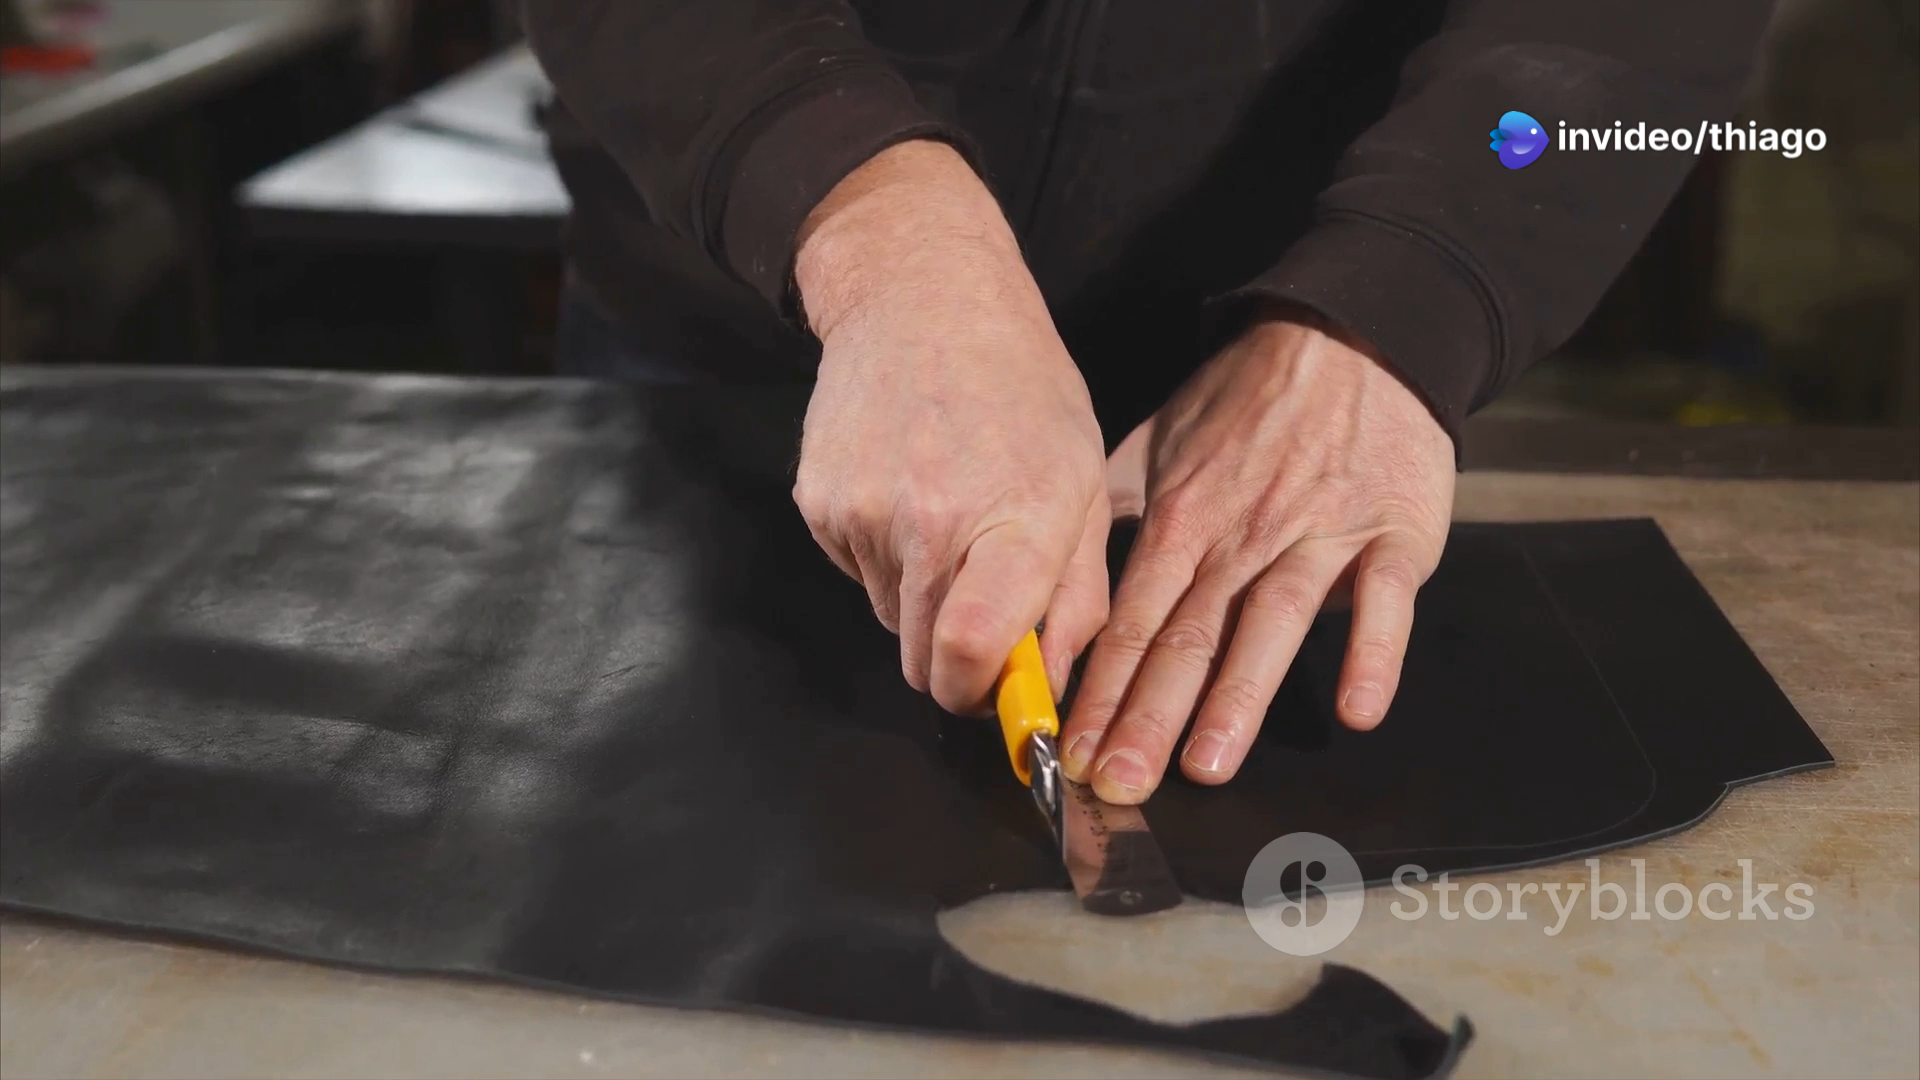cortante: (1031, 729, 1067, 868)
